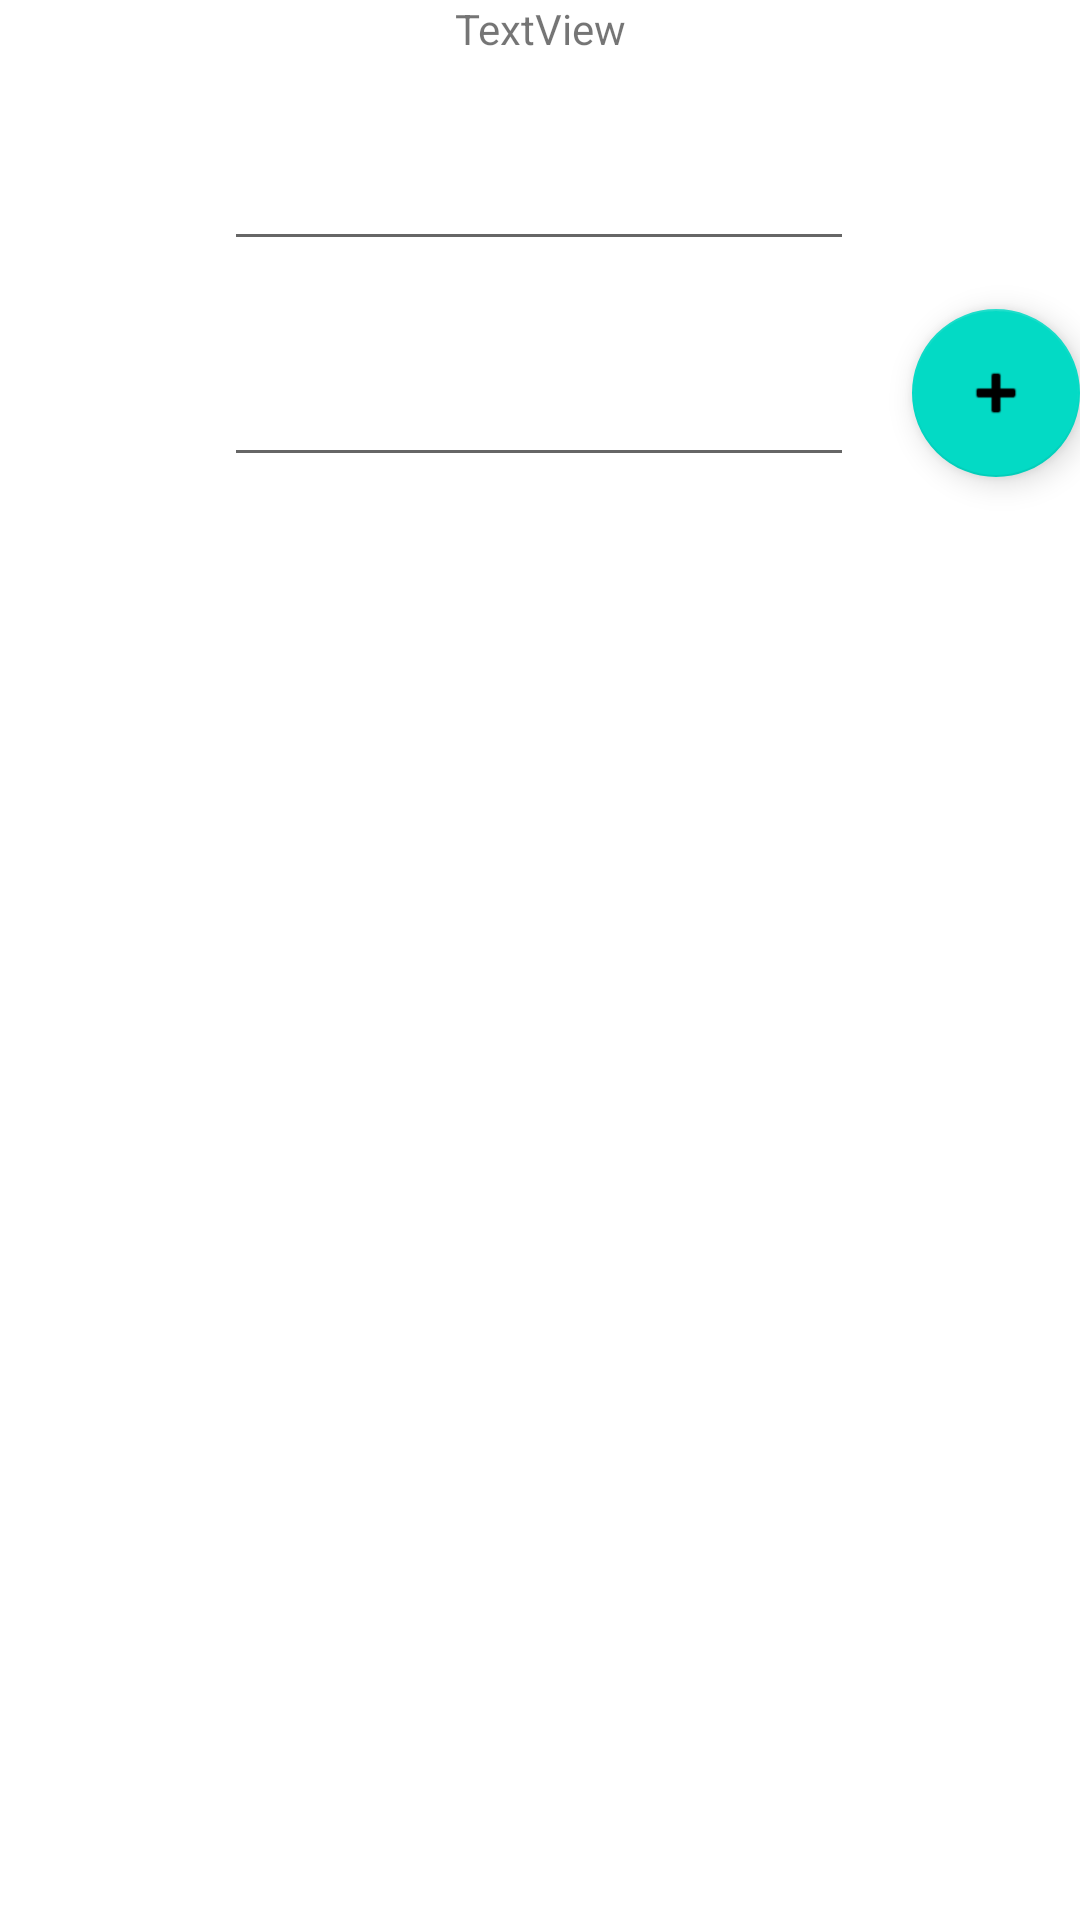

Where icons sit on this 1080×1920 app screen, as (x1, y1, x2, y2):
add: (912, 309, 1080, 477)
